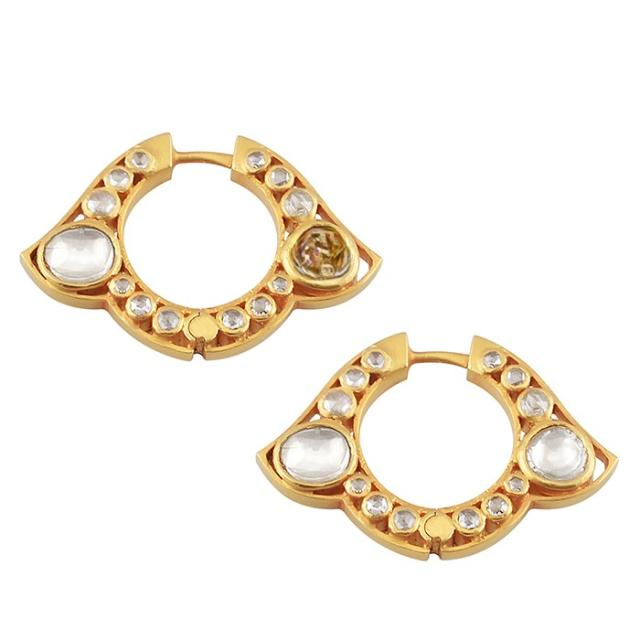missing gem: (292, 224, 350, 280)
